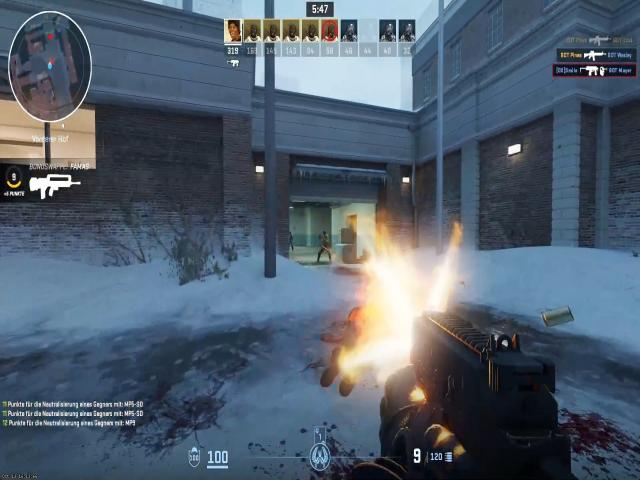T-Head: (316, 229, 332, 252), (322, 231, 329, 239)
